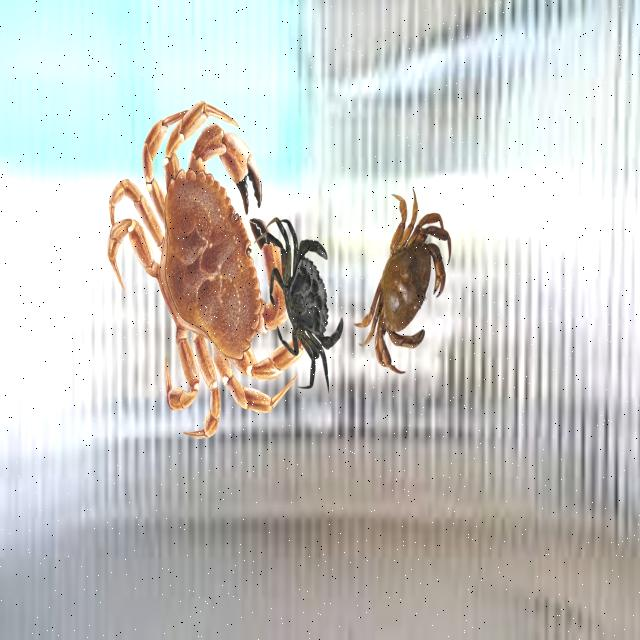European_Green_Crab: (259, 199, 352, 405)
